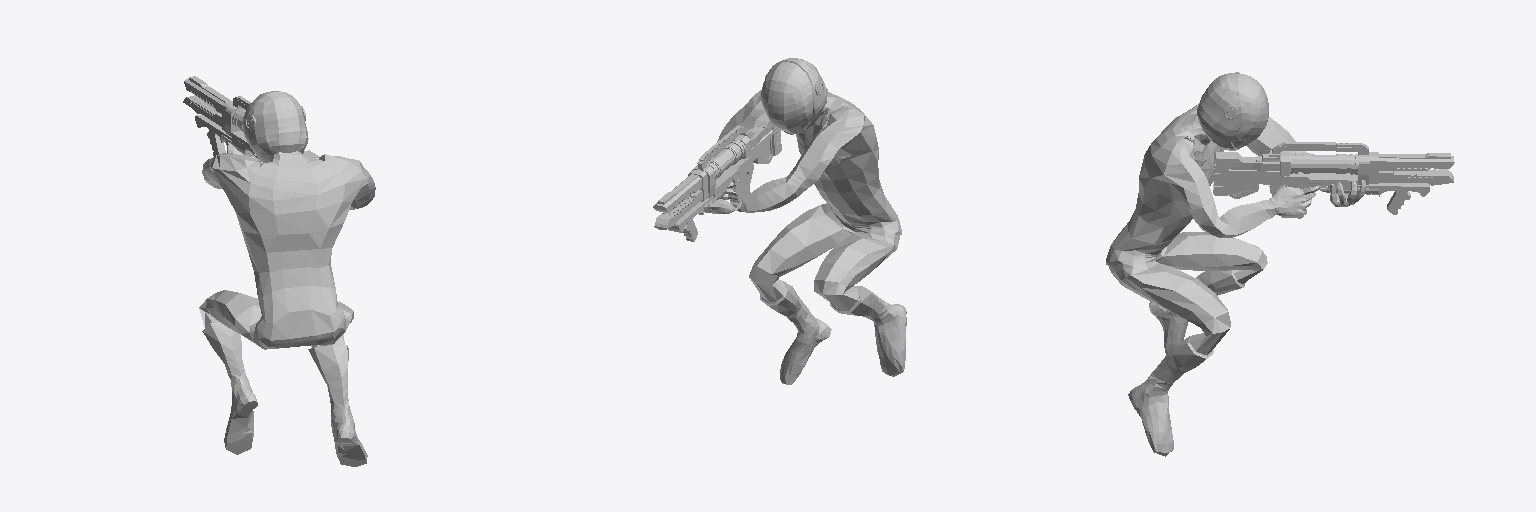
3 views of the same model, side by side, from view 1: azimuth 30°, elevation 25°; view 2: azimuth 150°, elevation 25°; view 3: azimuth 270°, elevation 25° (orthographic).
Parts seen in each view (by area): view 1: Brazos2, Piernas1, Cabeza1, Line0011; view 2: Piernas1, Brazos2, Line0011, Cabeza1; view 3: Piernas1, Brazos2, Line0011, Cabeza1.
Boxes of the visible parts, <box> form: Brazos2: <box>202,141,375,342</box>; Piernas1: <box>199,290,367,466</box>; Cabeza1: <box>242,91,308,162</box>; Line0011: <box>183,76,318,158</box>; Piernas1: <box>749,203,906,384</box>; Brazos2: <box>705,90,901,234</box>; Line0011: <box>653,112,781,241</box>; Cabeza1: <box>761,58,827,134</box>; Piernas1: <box>1108,232,1267,456</box>; Brazos2: <box>1106,104,1365,264</box>; Line0011: <box>1213,142,1454,218</box>; Cabeza1: <box>1197,72,1268,150</box>.
Bounding box in the file's own units: 69.32 × 143 × 126.